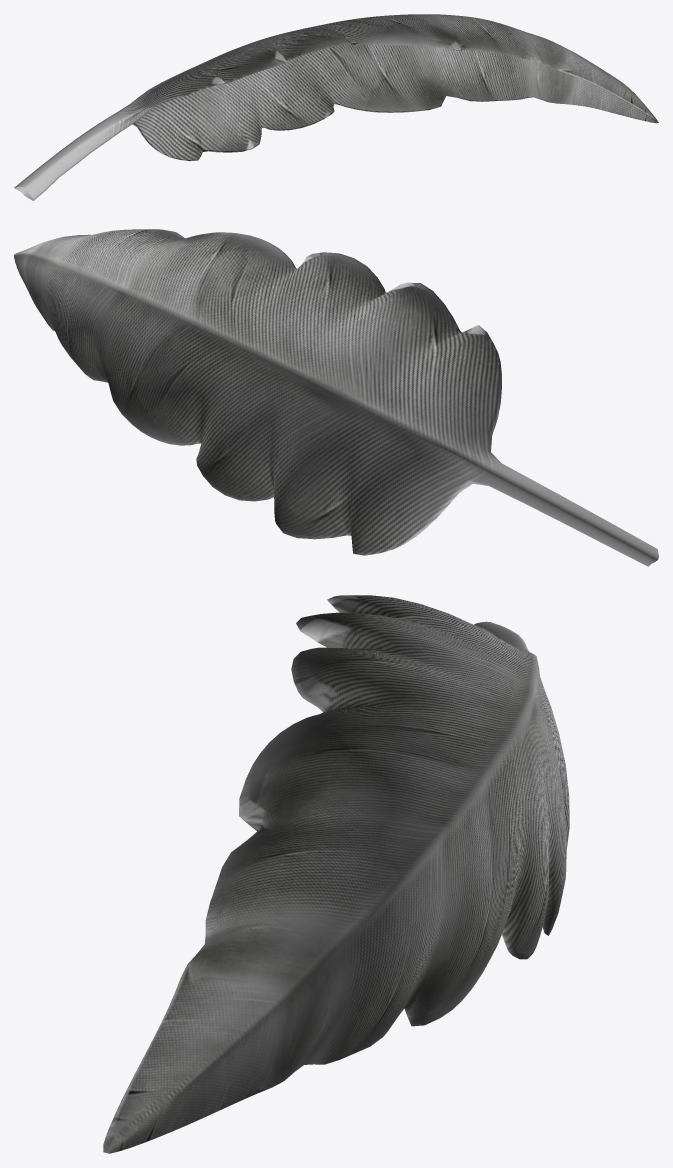
The model's file is feather.obj.
The picture shows the model from 3 angles, top to bottom: view 1: azimuth 30°, elevation 25°; view 2: azimuth 150°, elevation 25°; view 3: azimuth 270°, elevation 25°; orthographic projection. The views are drawn at different scales.
Parts seen in each view (by area): view 1: dynamic; view 2: dynamic; view 3: dynamic.
Part boxes in pixels (x1,y1,x2,y2): dynamic: (14,14,658,200); dynamic: (14,229,658,566); dynamic: (103,595,569,1153).
Size of the model in its own units: 1.49 by 0.3846 by 0.5506.
Materials: 1 (1 with a texture image).
